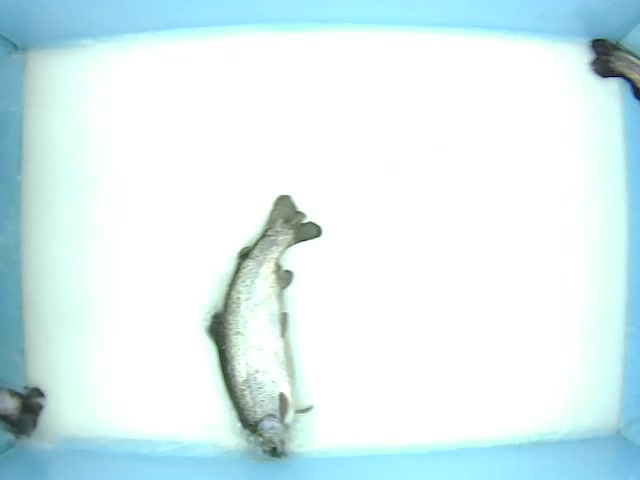fish: (206, 194, 326, 461)
